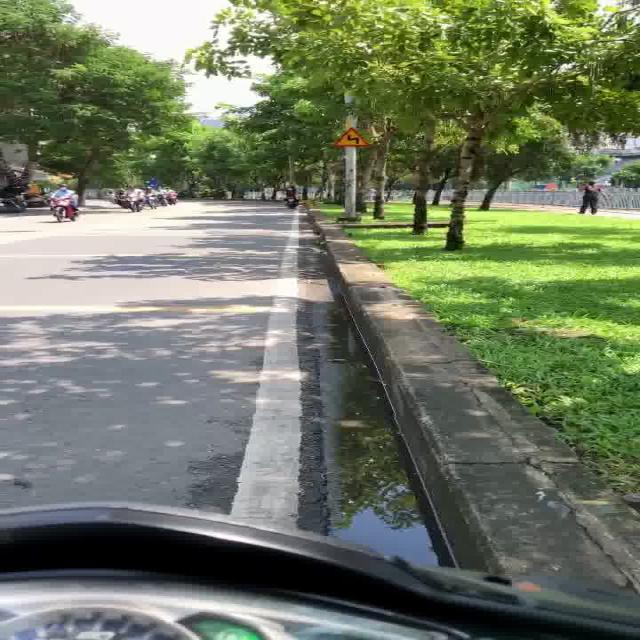Bien bao nhieu cho ngoat nguy hiem lien tiep: (324, 124, 379, 150)
